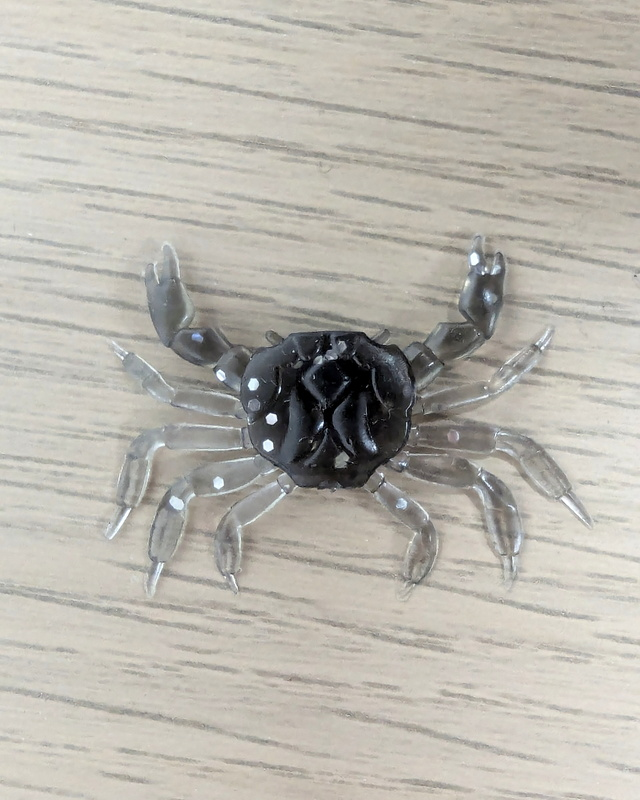crab1: (100, 236, 598, 603)
